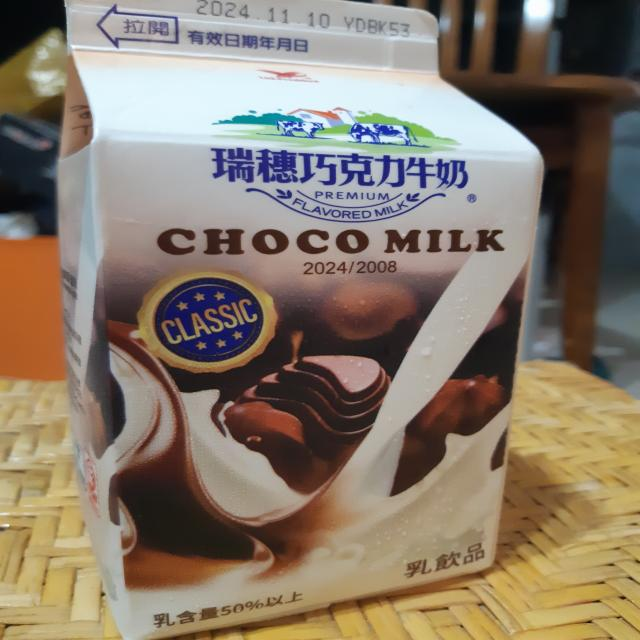RuiSui_ChocoMilk: (47, 0, 552, 640)
